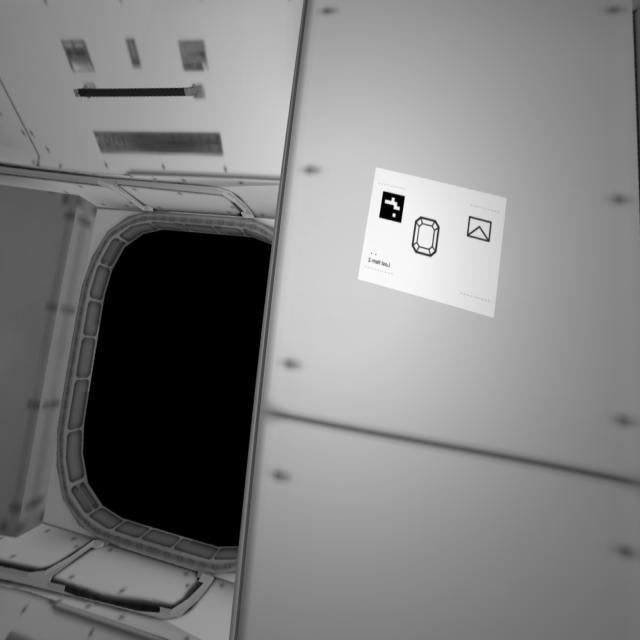emerald: (409, 214, 443, 263)
letter: (457, 212, 502, 254)
